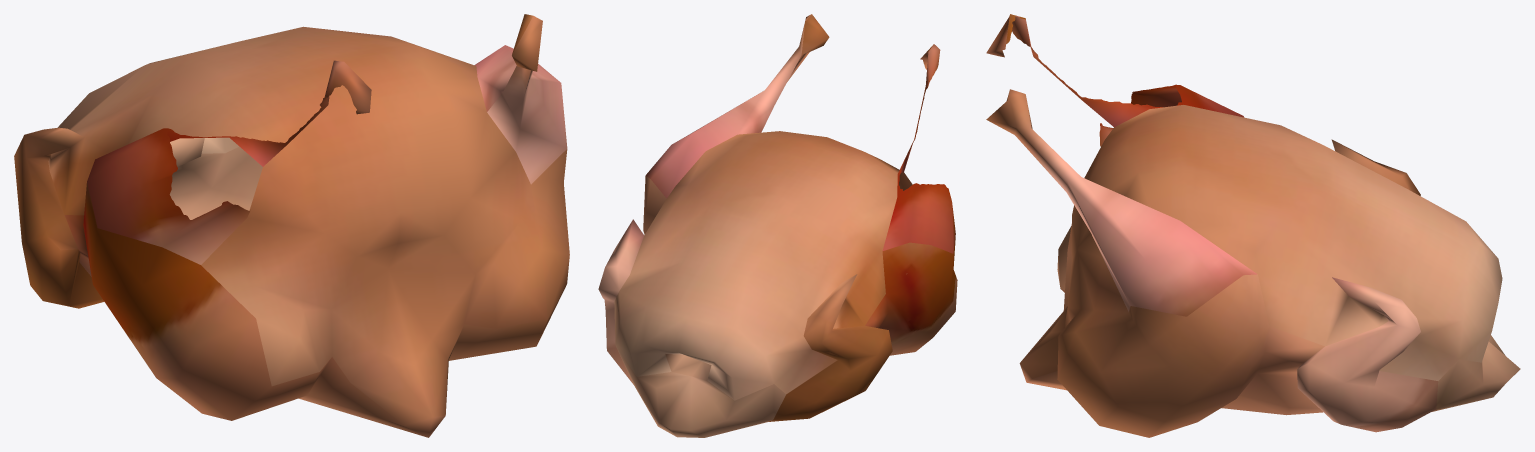
The picture shows the model from 3 angles, left to right: view 1: azimuth 30°, elevation 25°; view 2: azimuth 150°, elevation 25°; view 3: azimuth 270°, elevation 25°; orthographic projection. The views are drawn at different scales.
Visible parts, largest first — view 1: SM_Meat_Bird_01_LOD0; view 2: SM_Meat_Bird_01_LOD0; view 3: SM_Meat_Bird_01_LOD0.
Boxes of the visible parts, box(x1,y1,x2,y2) form: SM_Meat_Bird_01_LOD0: box(14, 14, 569, 437); SM_Meat_Bird_01_LOD0: box(598, 14, 957, 437); SM_Meat_Bird_01_LOD0: box(986, 14, 1520, 437).
Bounding box in the file's own units: 0.2505 × 0.2166 × 0.3058.
Materials: 1 (1 with a texture image).
